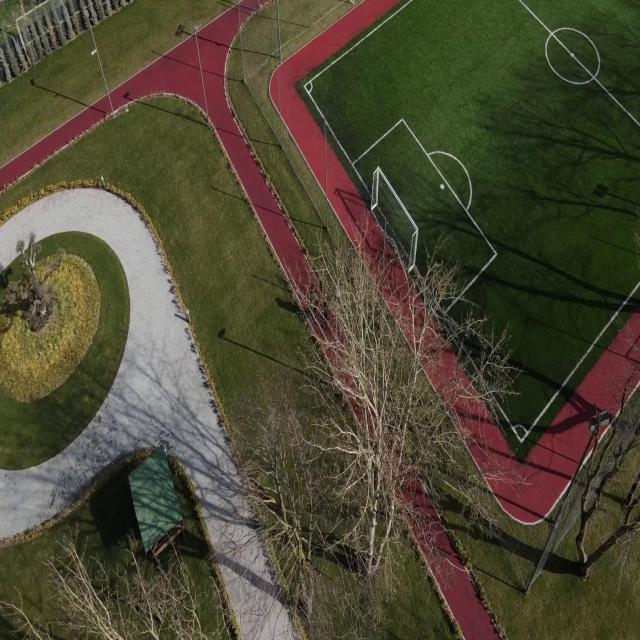p3rson: (319, 282, 329, 329), (309, 284, 319, 321)
